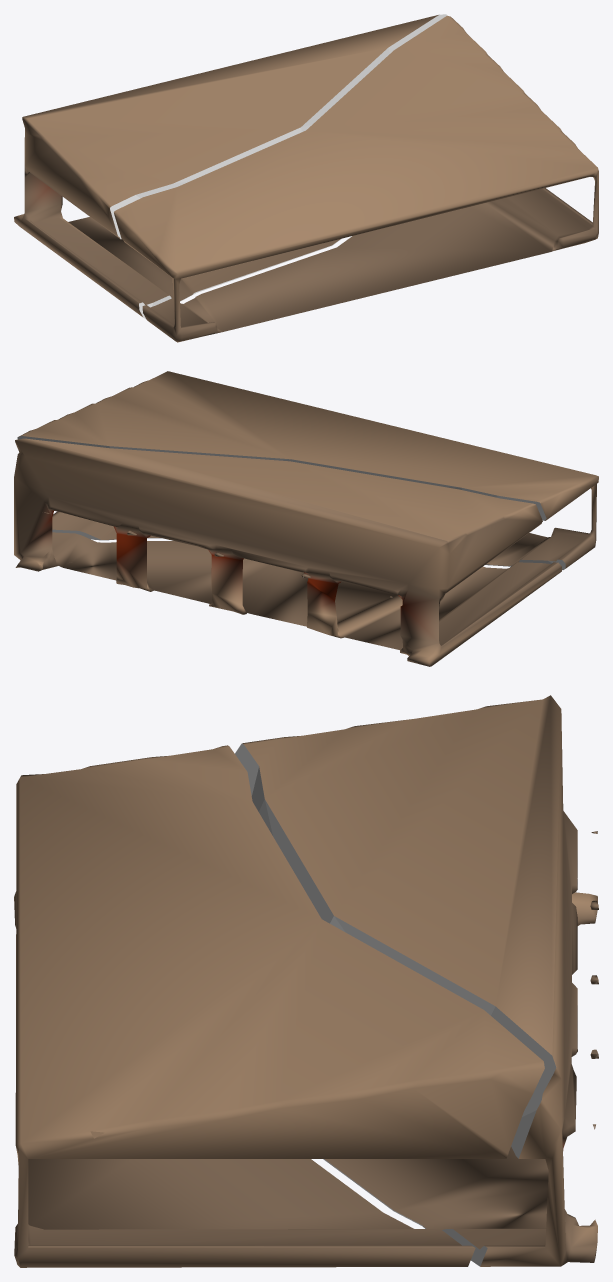
File: Storage Buildings(2).glb
3 renders of one model, top to bottom at view 1: azimuth 30°, elevation 25°; view 2: azimuth 150°, elevation 25°; view 3: azimuth 270°, elevation 25°, orthographic. The views are drawn at different scales.
Visible parts, largest first — view 1: Root.001, Root.007; view 2: Root.007, Root.001; view 3: Root.001, Root.007.
Boxes of the visible parts, left/top/right/bottom form: Root.001: left=114, top=15, right=598, bottom=342; Root.007: left=14, top=14, right=446, bottom=319; Root.007: left=14, top=438, right=561, bottom=666; Root.001: left=17, top=371, right=598, bottom=569; Root.001: left=14, top=745, right=544, bottom=1267; Root.007: left=235, top=695, right=597, bottom=1266.
Size of the model in its own units: 21.59 by 5.73 by 14.44.
